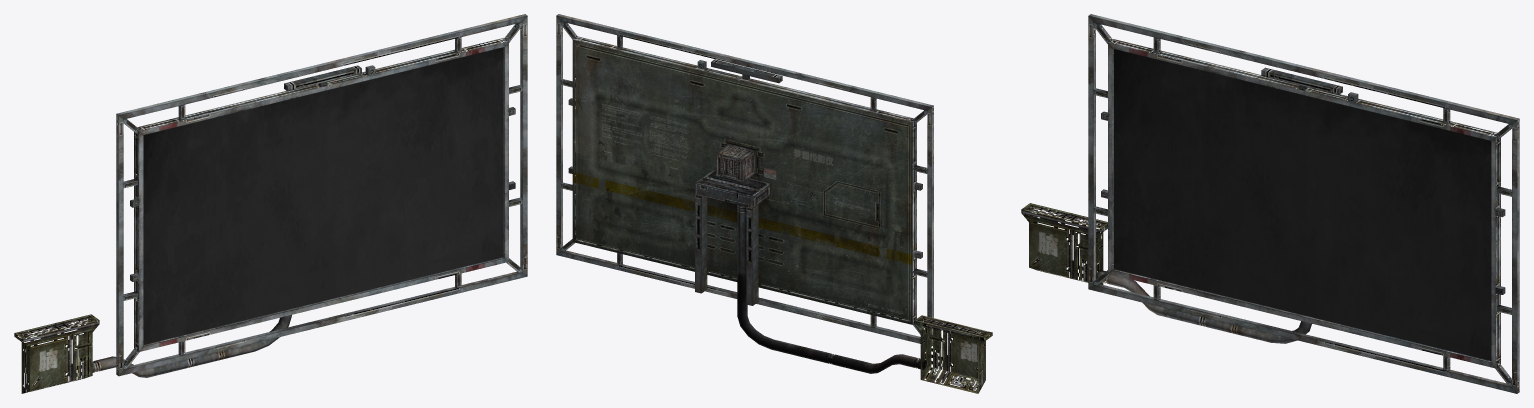
The model's file is tv_community_room.dae.
3 views of the same model, side by side, from view 1: azimuth 30°, elevation 25°; view 2: azimuth 150°, elevation 25°; view 3: azimuth 330°, elevation 25° (orthographic). The views are drawn at different scales.
Parts seen in each view (by area): view 1: Mesh, Mesh__4_; view 2: Mesh__4_, Mesh; view 3: Mesh, Mesh__4_.
Part boxes in pixels (x1,y1,x2,y2): Mesh: [143, 47, 503, 344]; Mesh__4_: [14, 14, 527, 393]; Mesh__4_: [556, 14, 992, 393]; Mesh: [580, 45, 910, 316]; Mesh: [1114, 49, 1491, 360]; Mesh__4_: [1021, 14, 1519, 393].
Size of the model in its own units: 2 by 1.12 by 0.1869.
